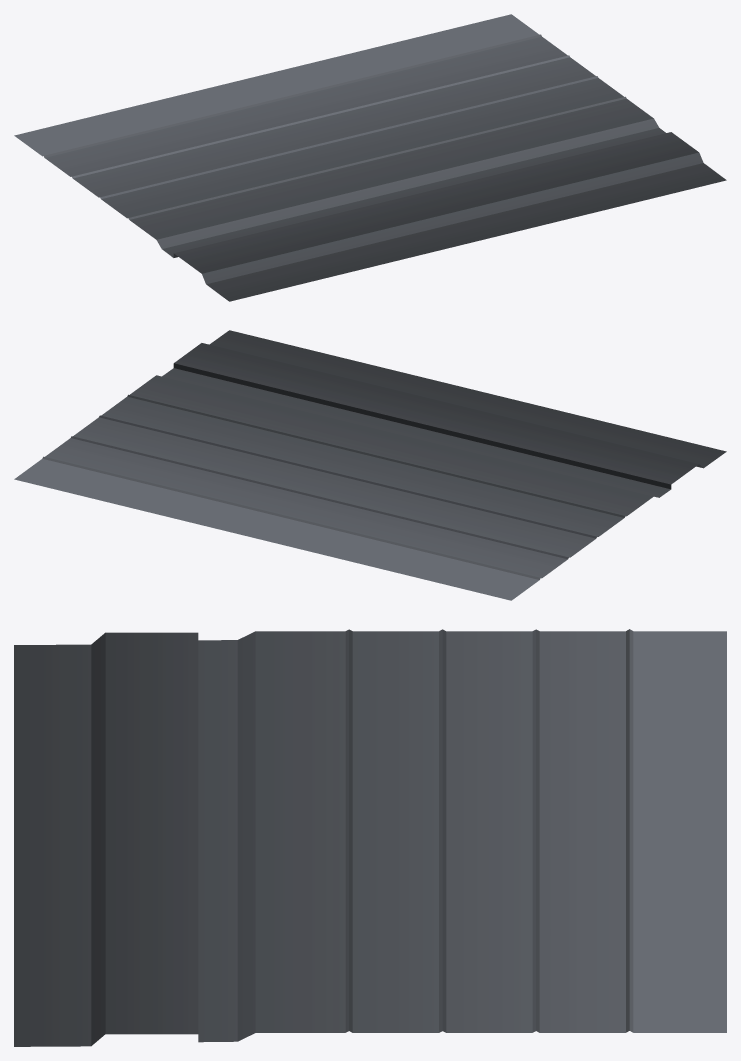
File: Mid Wall 02.FBX
3 renders of one model, top to bottom at view 1: azimuth 30°, elevation 25°; view 2: azimuth 150°, elevation 25°; view 3: azimuth 270°, elevation 25°, orthographic. The views are drawn at different scales.
Parts seen in each view (by area): view 1: Mid Wall 02; view 2: Mid Wall 02; view 3: Mid Wall 02.
Part boxes in pixels (x1,y1,x2,y2): Mid Wall 02: [14, 14, 726, 301]; Mid Wall 02: [14, 330, 726, 600]; Mid Wall 02: [14, 629, 726, 1046].
Bounding box in the file's own units: 400 × 7.49 × 300.
